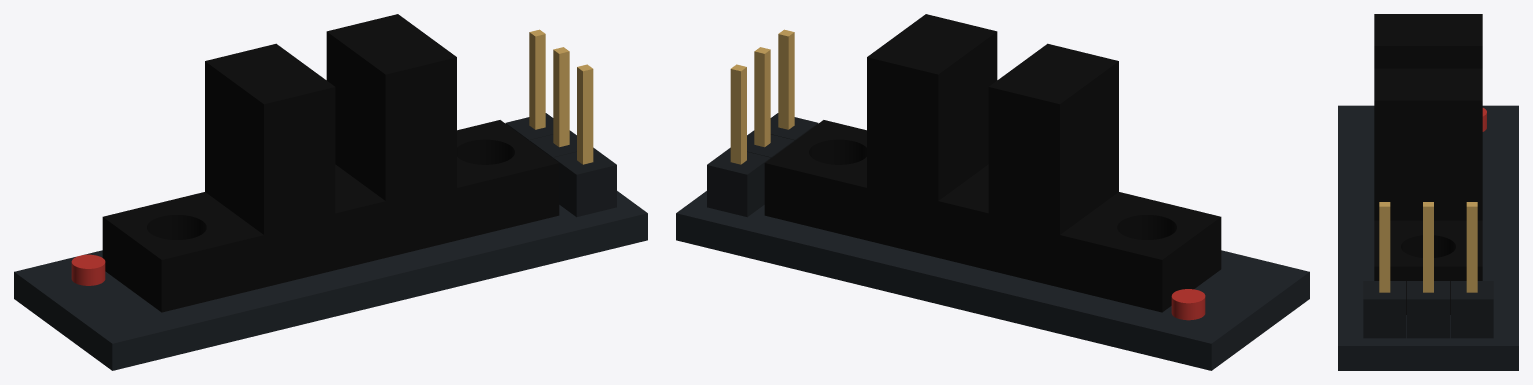
Rendered from tcst2103.glb.
3 views of the same model, side by side, from view 1: azimuth 30°, elevation 25°; view 2: azimuth 150°, elevation 25°; view 3: azimuth 270°, elevation 25° (orthographic). The views are drawn at different scales.
Parts seen in each view (by area): view 1: tcst2103; view 2: tcst2103; view 3: tcst2103.
Part boxes in pixels (x1,y1,x2,y2): tcst2103: (14,14,647,370); tcst2103: (676,14,1309,370); tcst2103: (1338,14,1518,370).
Size of the model in its own units: 33 by 12.4 by 10.5.
